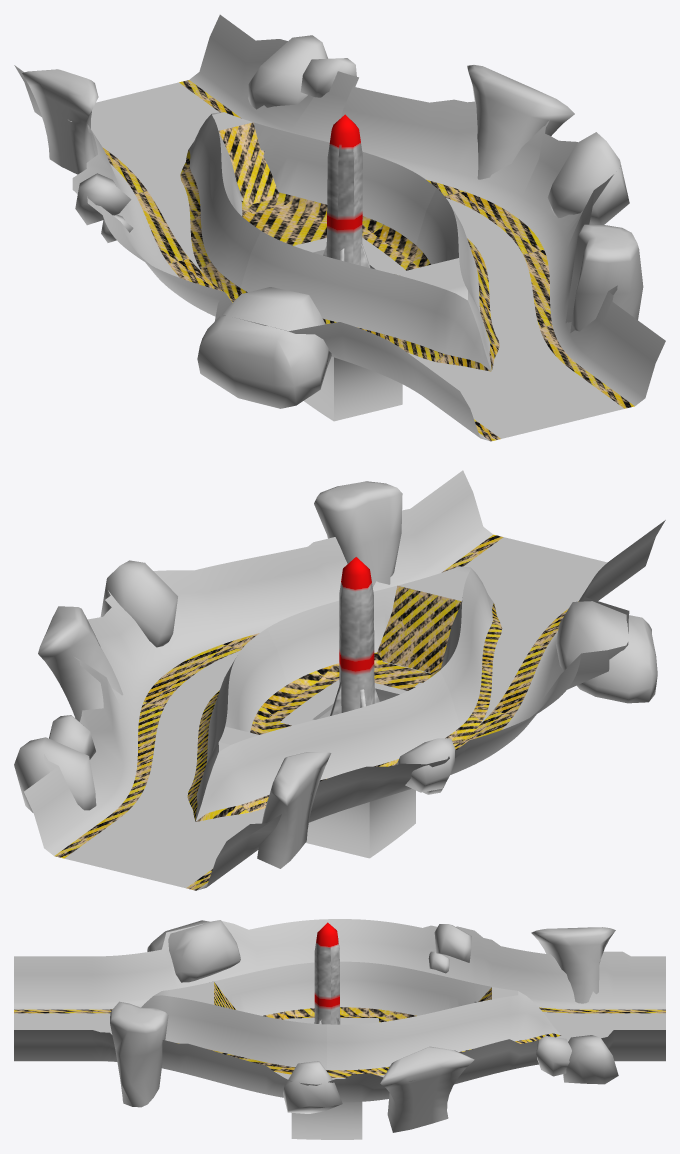
File: split_Chunk_old.fbx
The picture shows the model from 3 angles, top to bottom: view 1: azimuth 30°, elevation 25°; view 2: azimuth 150°, elevation 25°; view 3: azimuth 270°, elevation 25°; orthographic projection. The views are drawn at different scales.
Parts seen in each view (by area): view 1: split_Chunk; view 2: split_Chunk; view 3: split_Chunk.
Boxes of the visible parts, left/top/right/bottom form: split_Chunk: left=14, top=14, right=665, bottom=441; split_Chunk: left=14, top=470, right=665, bottom=890; split_Chunk: left=14, top=919, right=665, bottom=1139.
Size of the model in its own units: 95.12 by 51.99 by 150.
